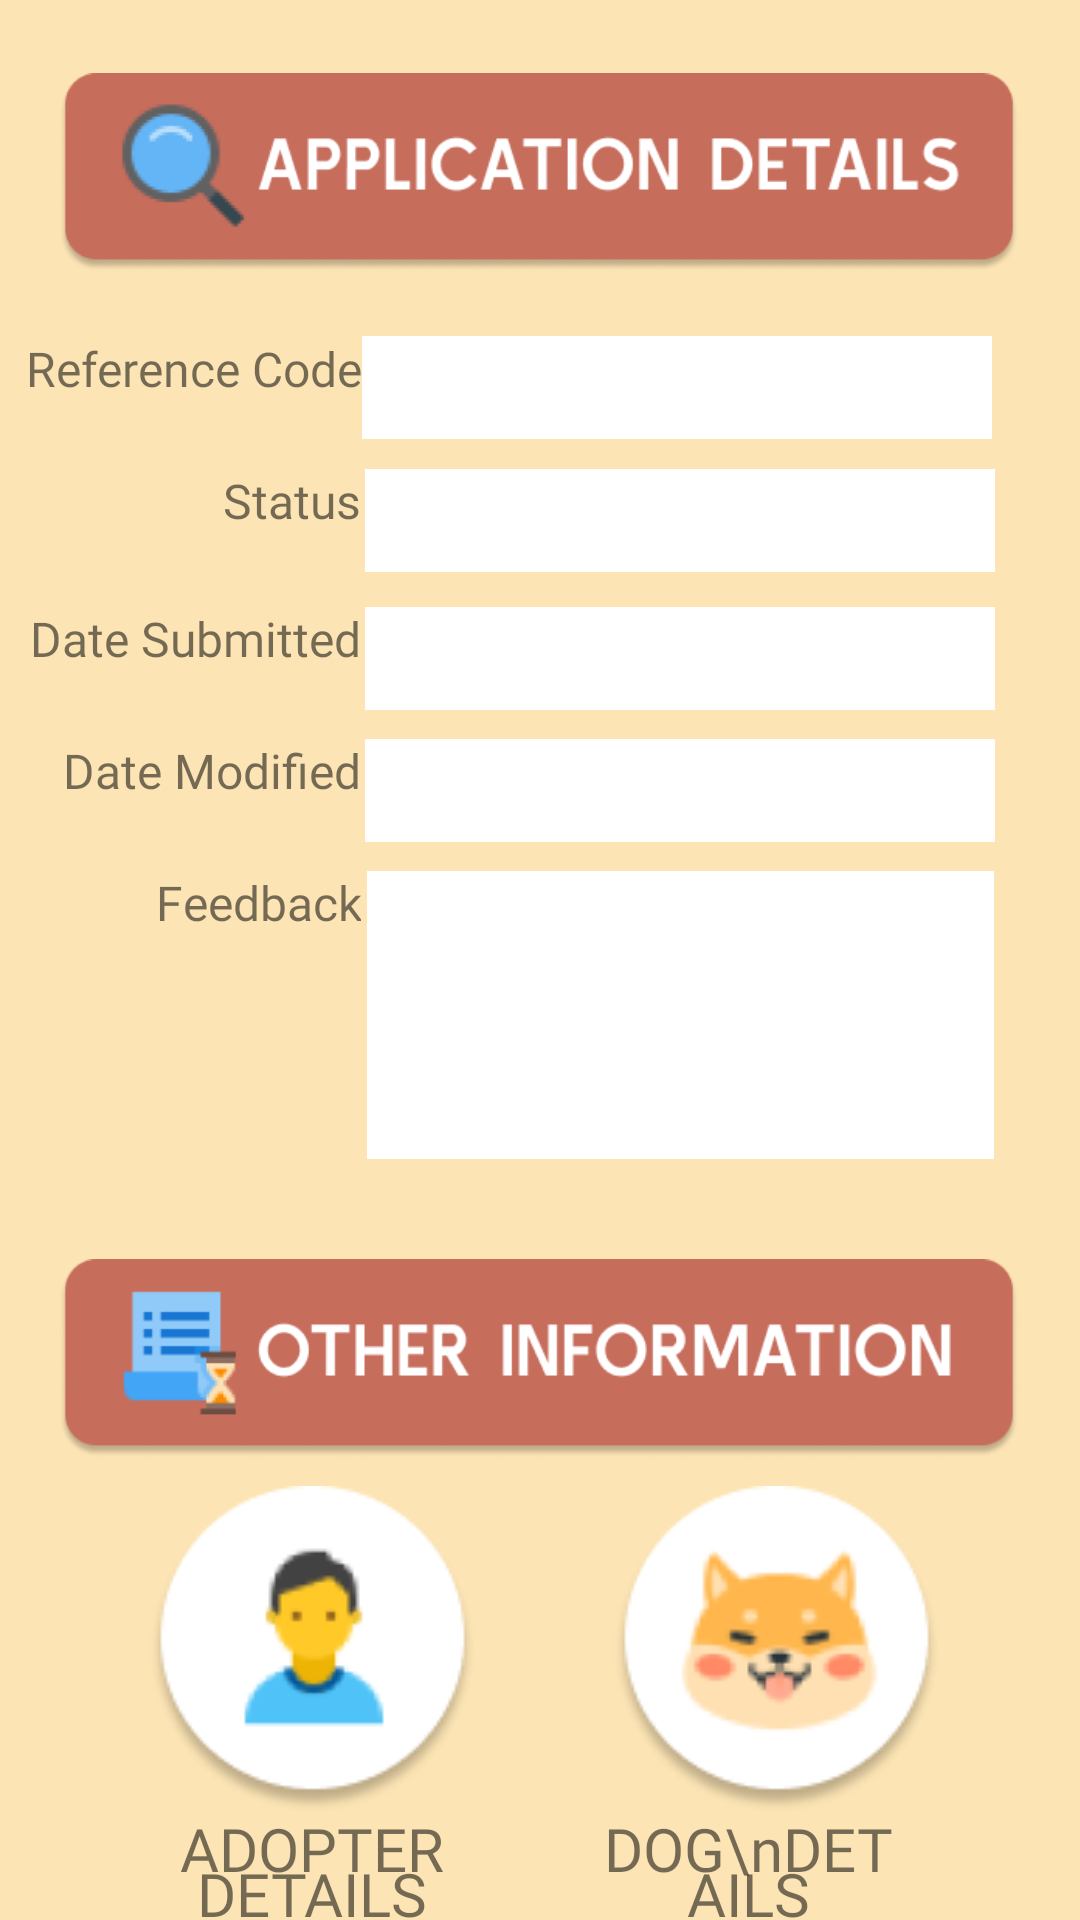

Named icons in this screenshot (1080px x 1920px) and their bounding boxes, Rect(x1, y1, x2, y2):
person: Rect(159, 1486, 464, 1803)
